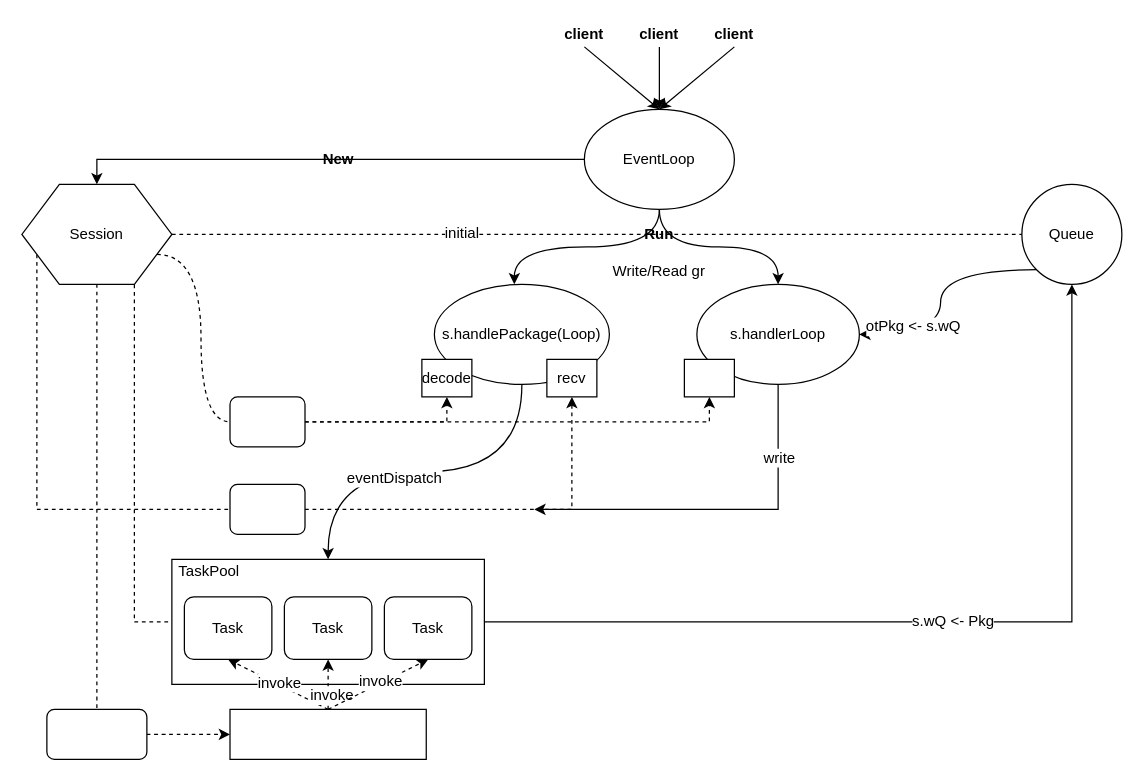
This 1144x781 diagram has some shape labels left out. Each missing label, with the centre of its shape:
Codec: point (267, 421)
Conn: point (267, 508)
encode: point (708, 377)
Handler: point (96, 733)
OnMessage: point (327, 733)
